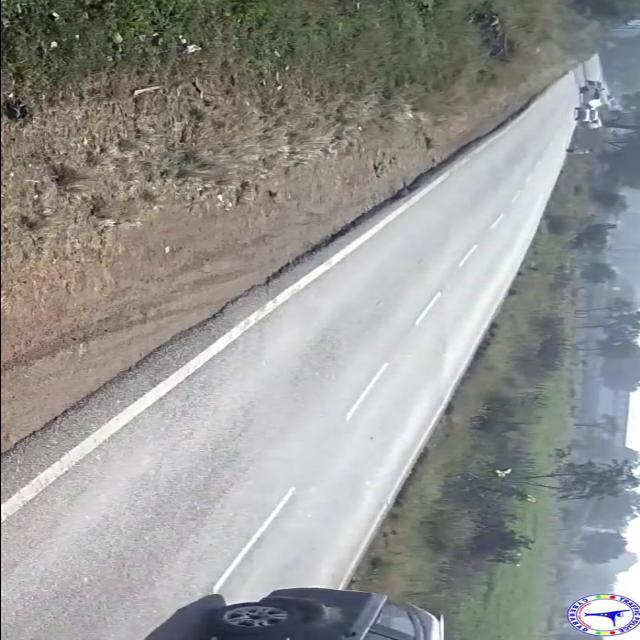accident: (570, 82, 605, 124)
